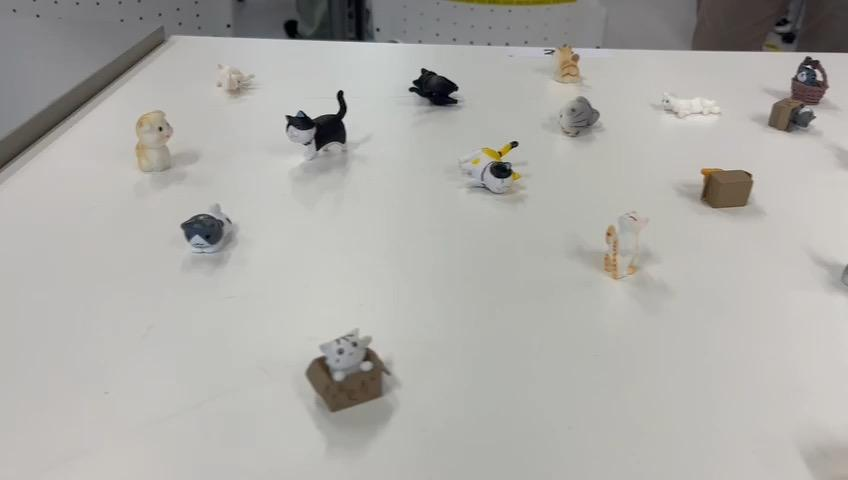pet: (299, 322, 397, 411), (283, 87, 360, 163), (456, 134, 528, 197), (600, 202, 650, 283), (177, 198, 238, 255), (696, 160, 758, 209), (130, 107, 176, 173), (549, 94, 606, 140), (658, 85, 730, 121), (409, 62, 464, 107), (790, 54, 831, 104), (767, 93, 815, 133), (549, 43, 592, 85), (210, 60, 263, 94)
